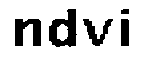d: (48, 8, 80, 52)
i: (116, 5, 135, 56)
n: (10, 13, 42, 52)
v: (82, 18, 116, 49)
